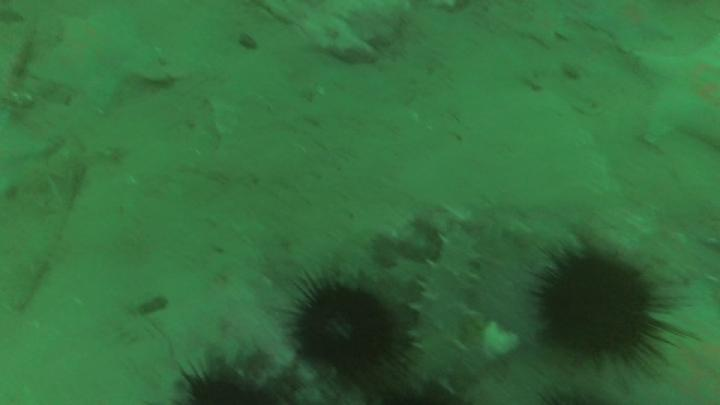echinus: (538, 253, 653, 360), (296, 289, 398, 372)
holothurian: (413, 230, 479, 387)
starfish: (30, 11, 169, 109), (641, 41, 720, 145), (584, 1, 677, 51), (521, 12, 572, 50)
